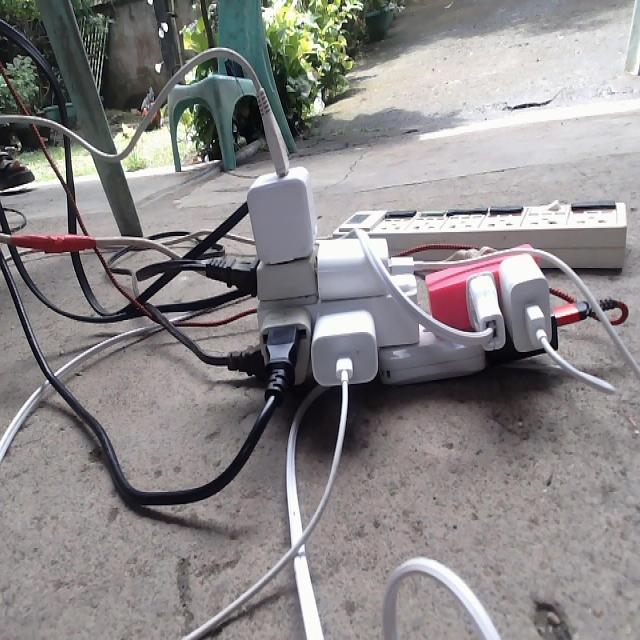-: (234, 160, 630, 389)
